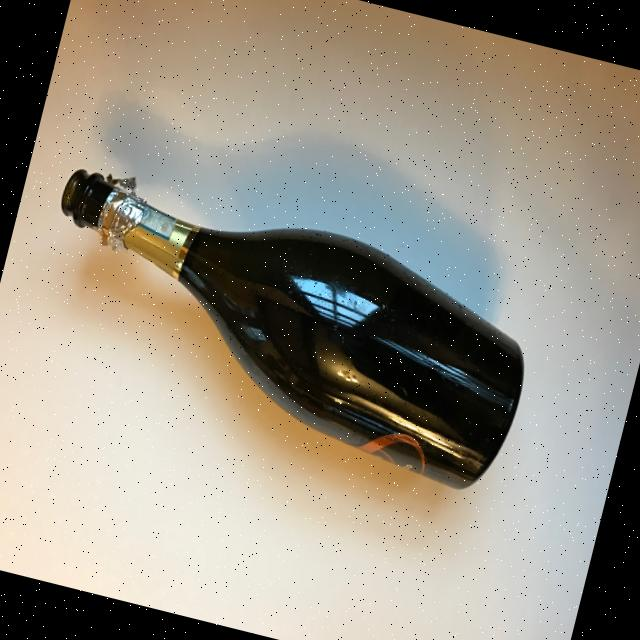glass: (16, 159, 550, 499)
